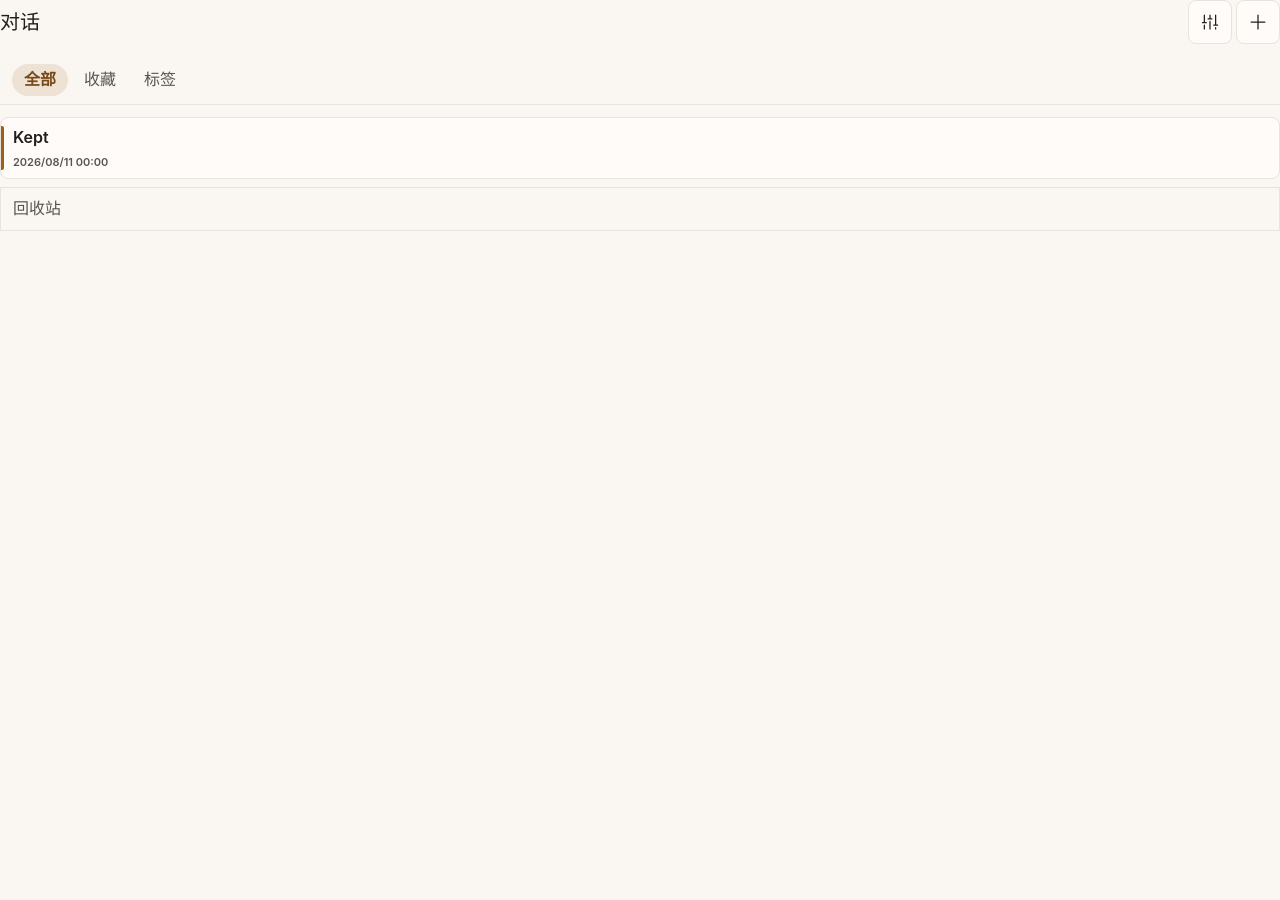
Test: thread recycle bin navigation › restores and purges from recycle rows with correct confirmation copy and 409 alert
Expected: the button "Kept 2026/08/11 00:00" is shown, x1=0 y1=117 x2=1279 y2=179
Step 1. Click the button "回收站" → (37, 208), box x1=0 y1=187 x2=1279 y2=231
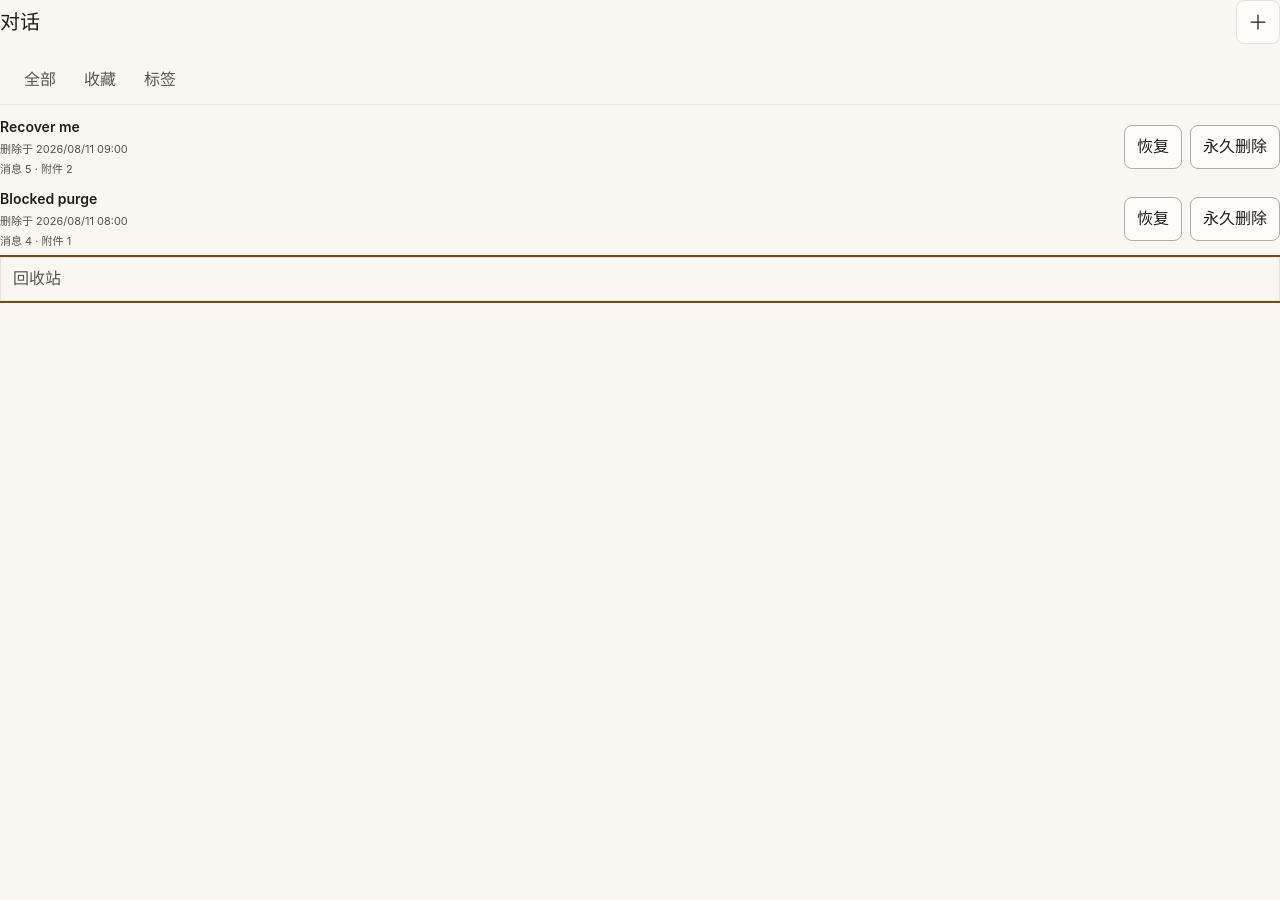
Expected: the button with aria-label "恢复 Recover me" is shown, x1=1124 y1=125 x2=1182 y2=169
Step 2. Click the button with aria-label "永久删除 Recover me" → (1235, 147), box x1=1190 y1=125 x2=1279 y2=169
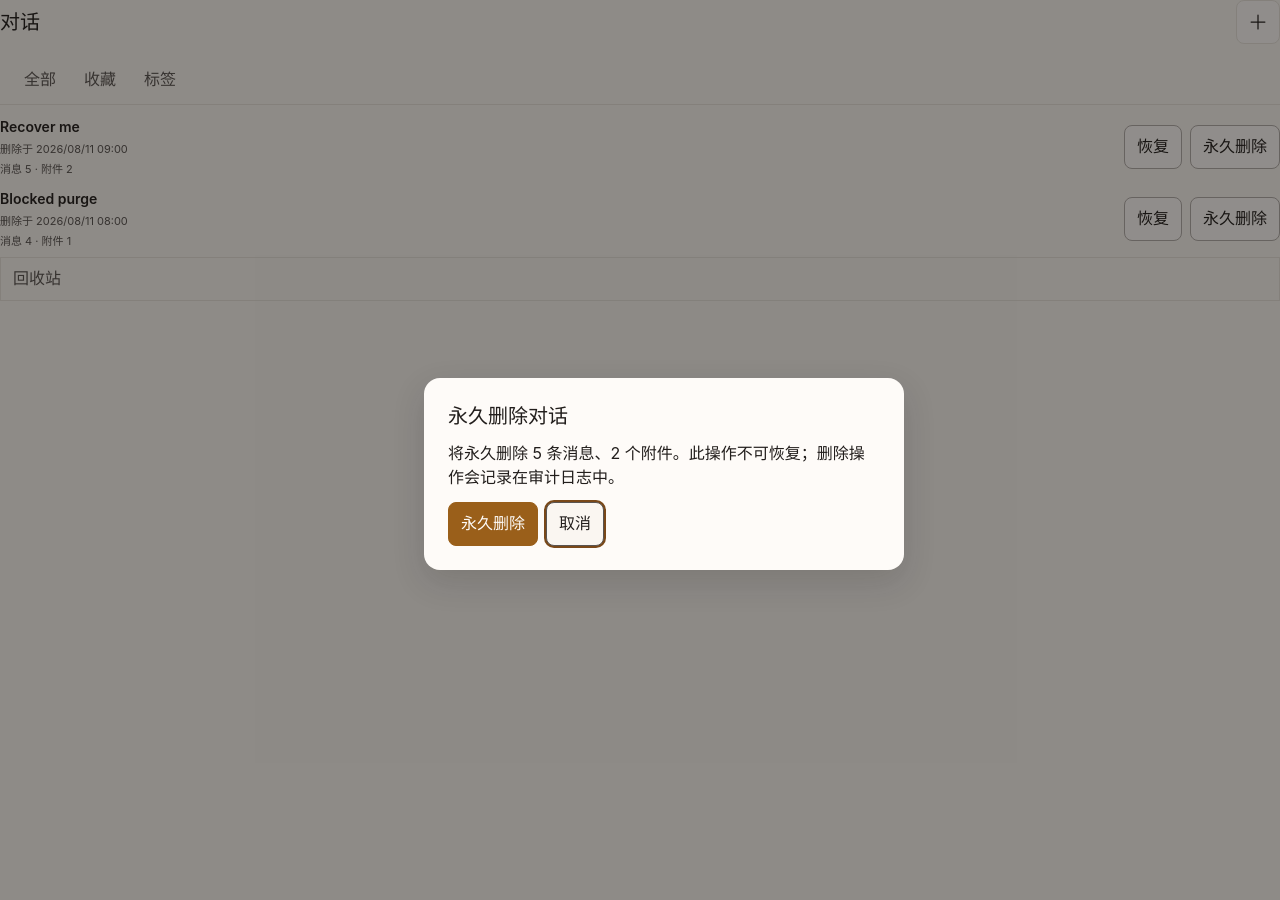
Expected: the dialog "永久删除对话" shows "将永久删除 5 条消息、2 个附件。此操作不可恢复；删除操作会记录在审计日志中。", x1=448 y1=444 x2=865 y2=487
Step 3. Press Escape
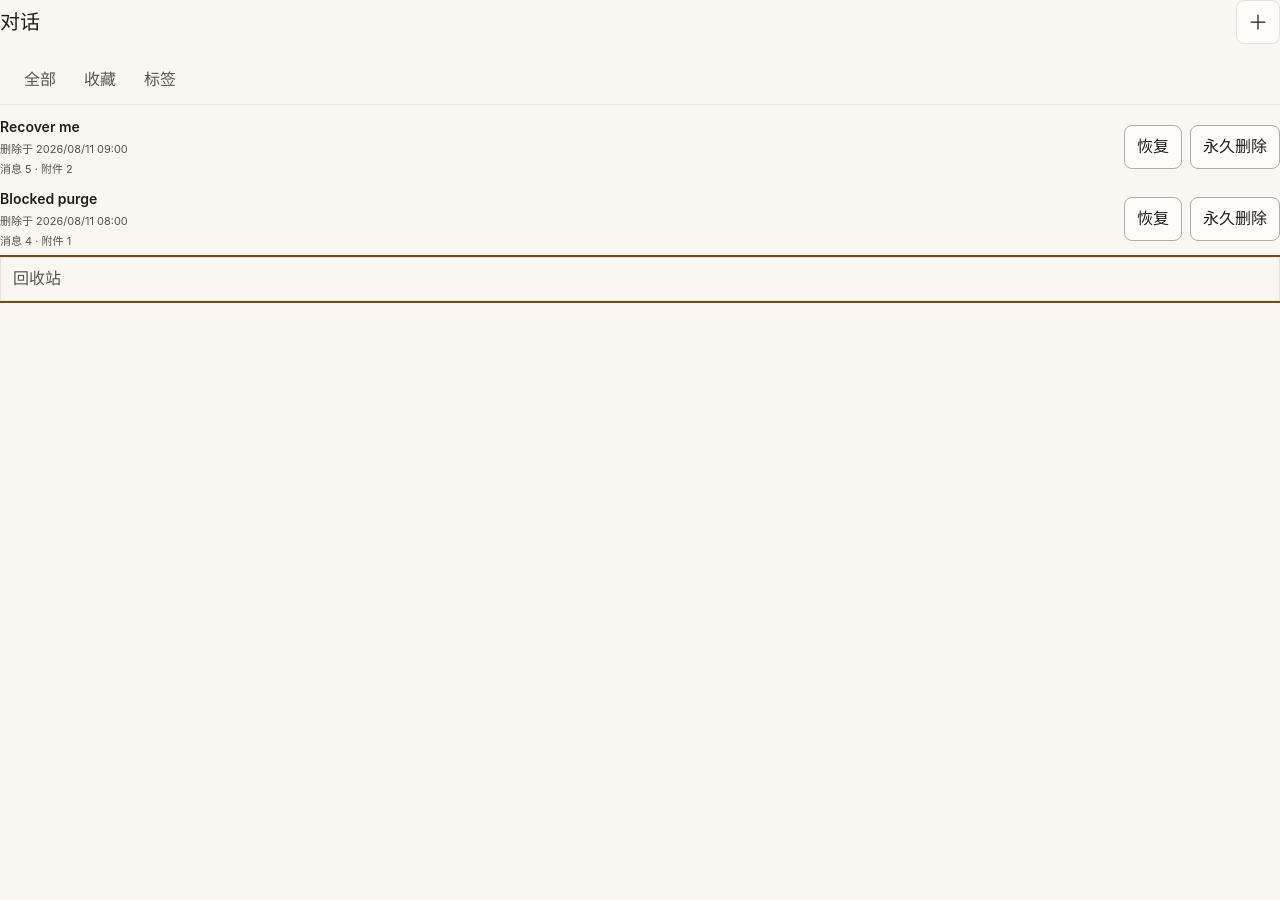
Expected: the heading "永久删除对话" is gone
Step 4. Click the button with aria-label "恢复 Recover me" → (1153, 147), box x1=1124 y1=125 x2=1182 y2=169
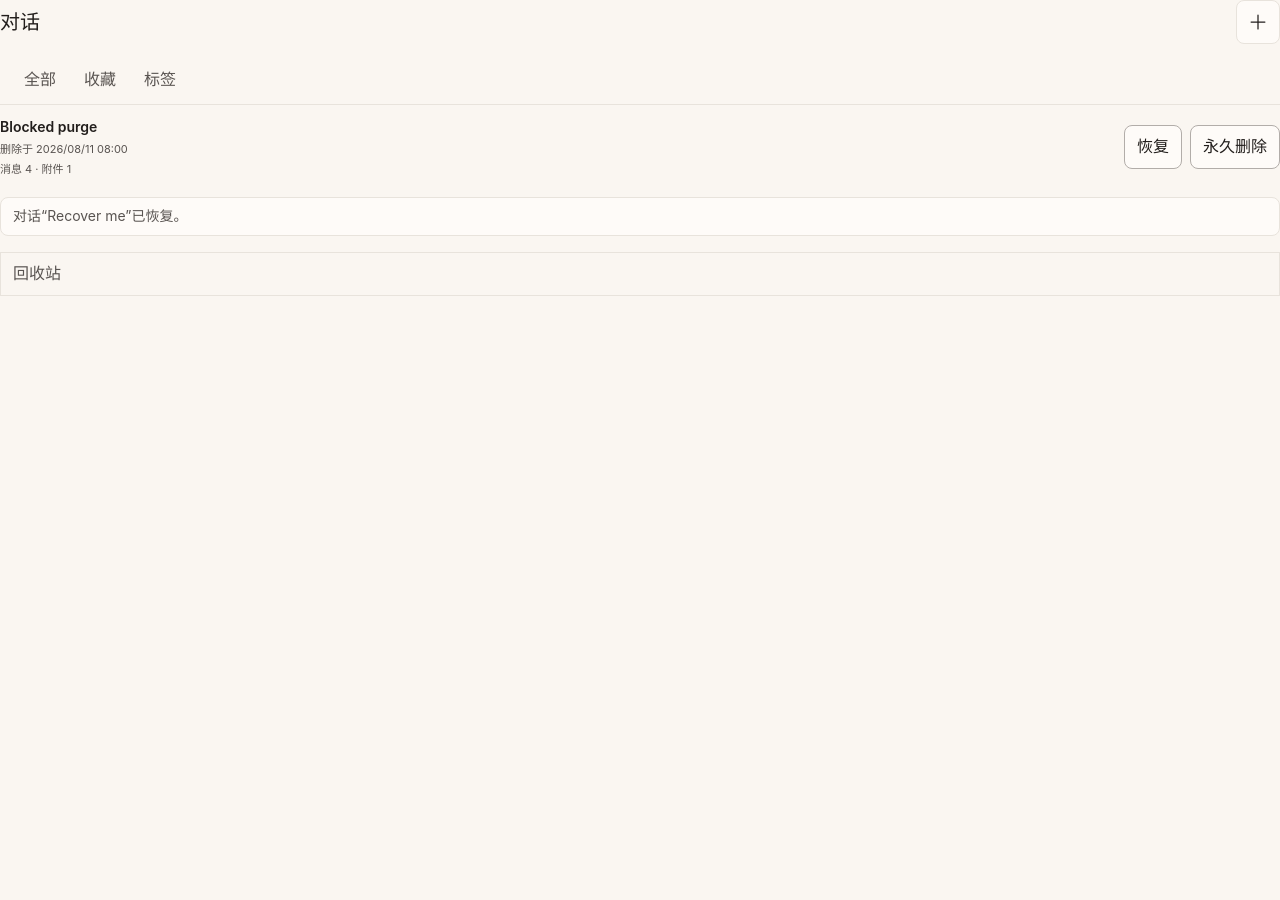
Expected: the message reads "对话“Recover me”已恢复。", x1=13 y1=207 x2=188 y2=224
Step 5. Click the button with aria-label "永久删除 Blocked purge" → (1235, 147), box x1=1190 y1=125 x2=1279 y2=169
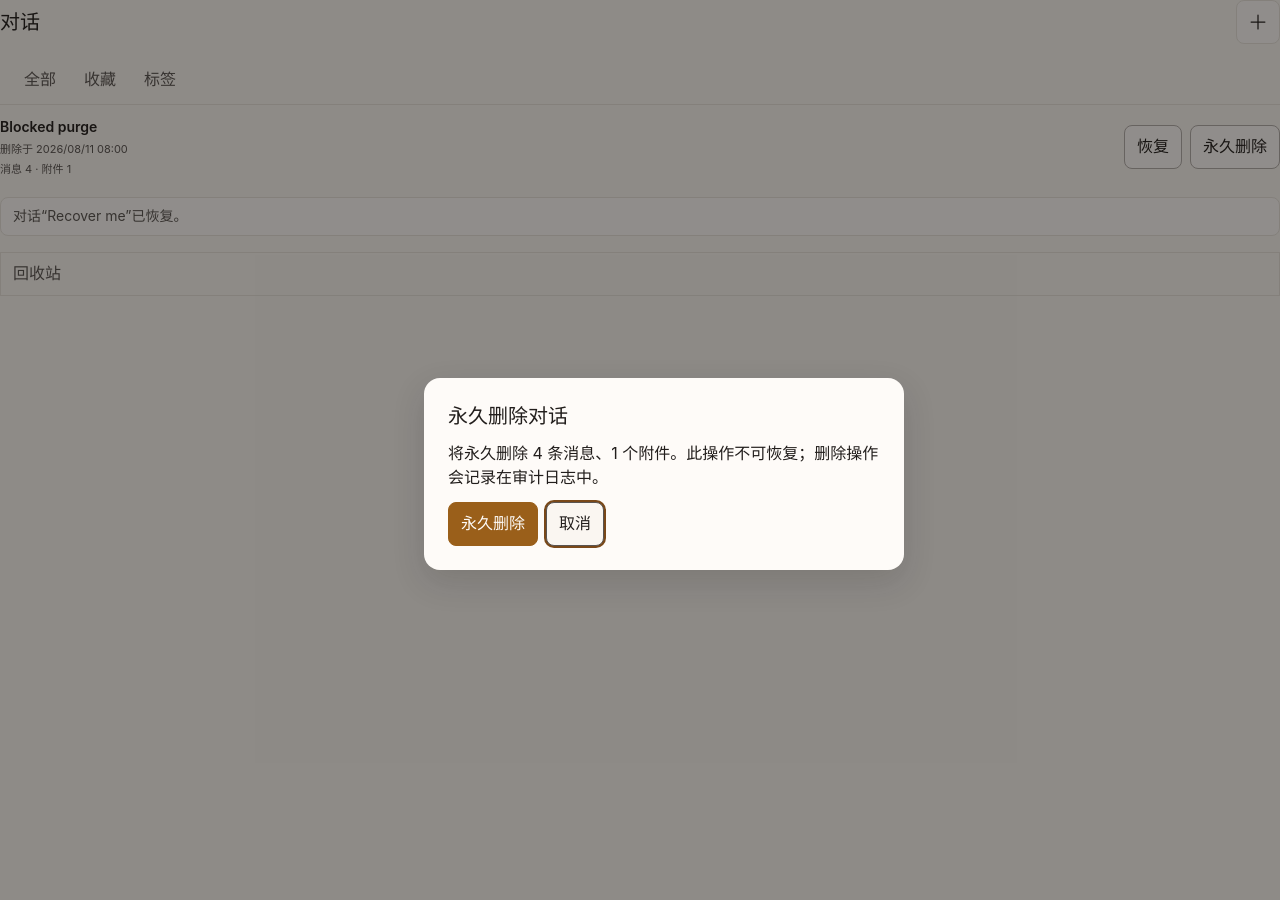
Step 6. Click the button "永久删除" → (493, 524), box x1=448 y1=502 x2=538 y2=546
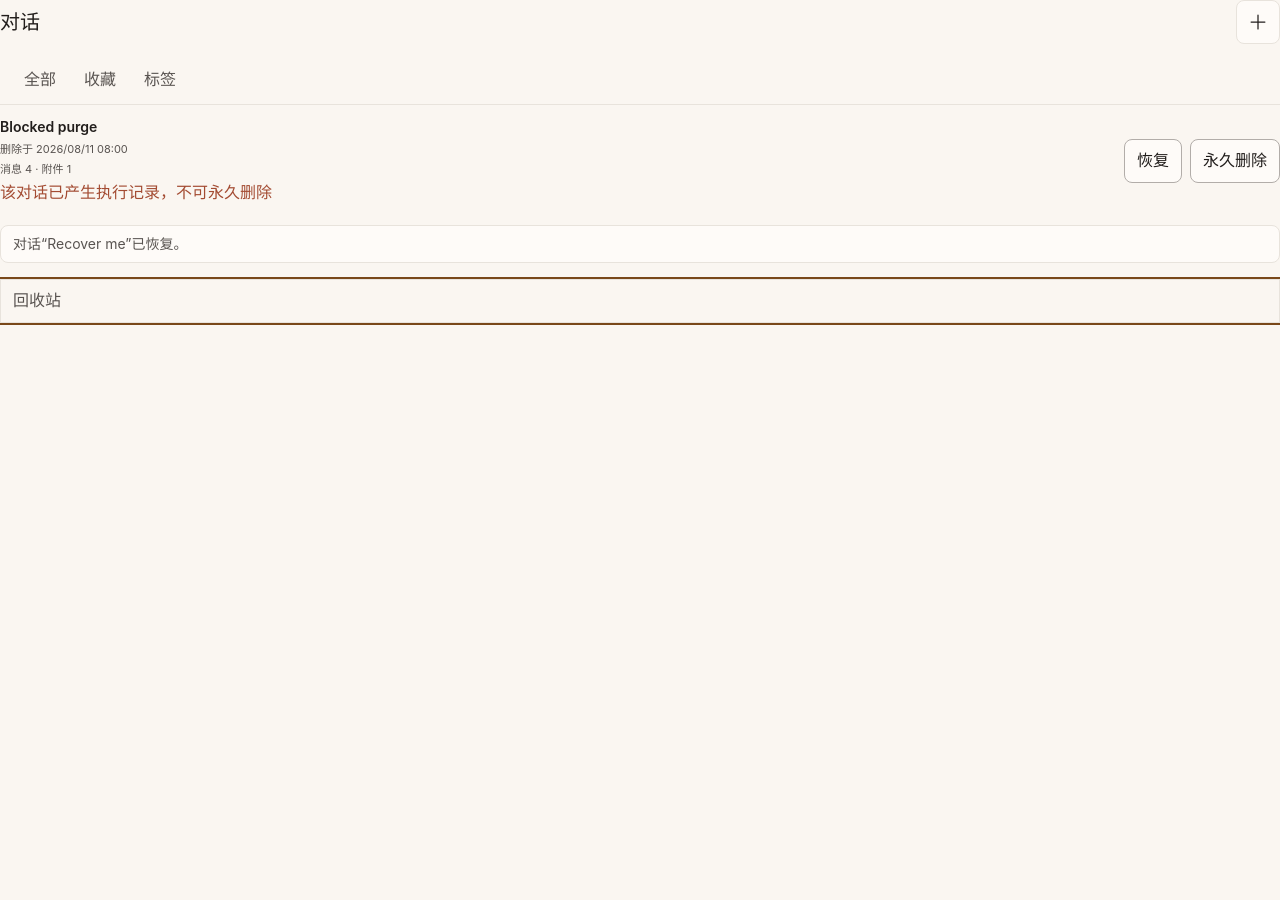
Expected: the message "该对话已产生执行记录，不可永久删除" is shown, x1=0 y1=182 x2=272 y2=202
